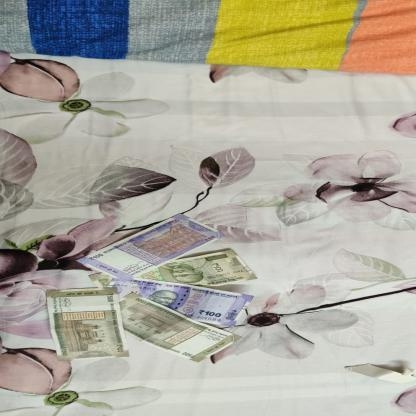New100Back: (76, 213, 226, 283)
New100Front: (107, 278, 256, 326)
New500Back: (119, 292, 244, 363), (86, 249, 260, 288), (46, 286, 130, 362)
